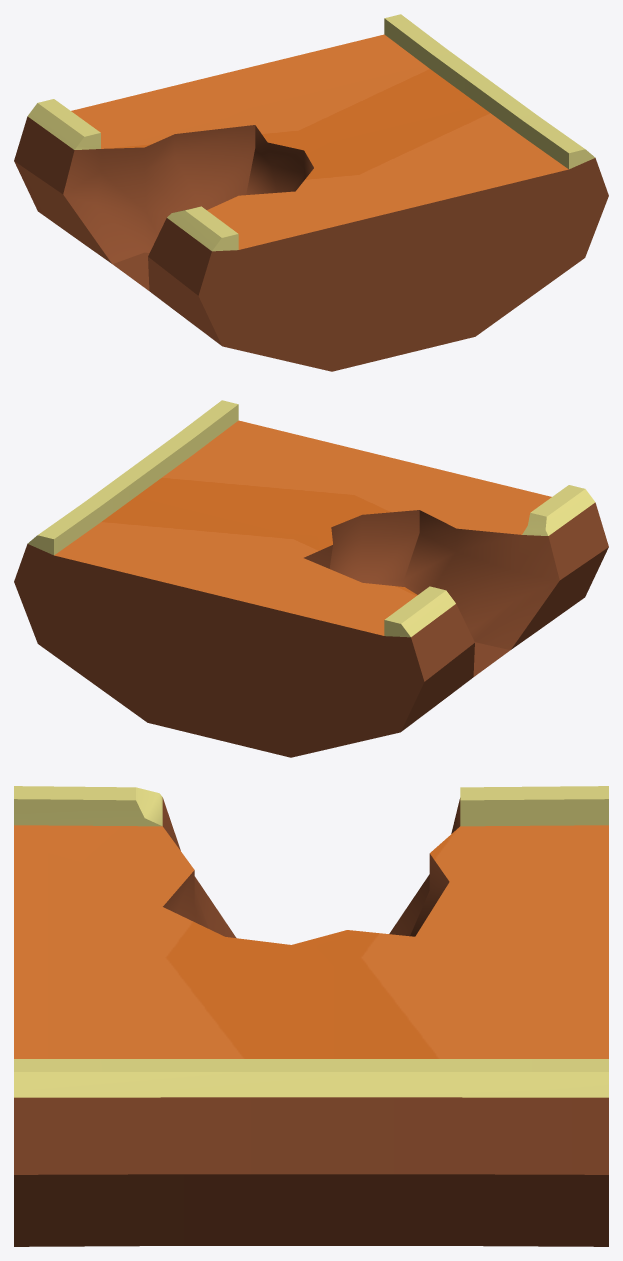
The model's file is gemi_sag_kirik_parca.fbx.
The picture shows the model from 3 angles, top to bottom: view 1: azimuth 30°, elevation 25°; view 2: azimuth 150°, elevation 25°; view 3: azimuth 270°, elevation 25°; orthographic projection. The views are drawn at different scales.
Visible parts, largest first — view 1: kırık_sag; view 2: kırık_sag; view 3: kırık_sag.
Part boxes in pixels (bbox=[...]): kırık_sag: bbox=[14, 14, 608, 371]; kırık_sag: bbox=[14, 400, 608, 757]; kırık_sag: bbox=[14, 786, 608, 1246].
Size of the model in its own units: 515 by 192 by 400.
Materials: 3 (1 with a texture image).
